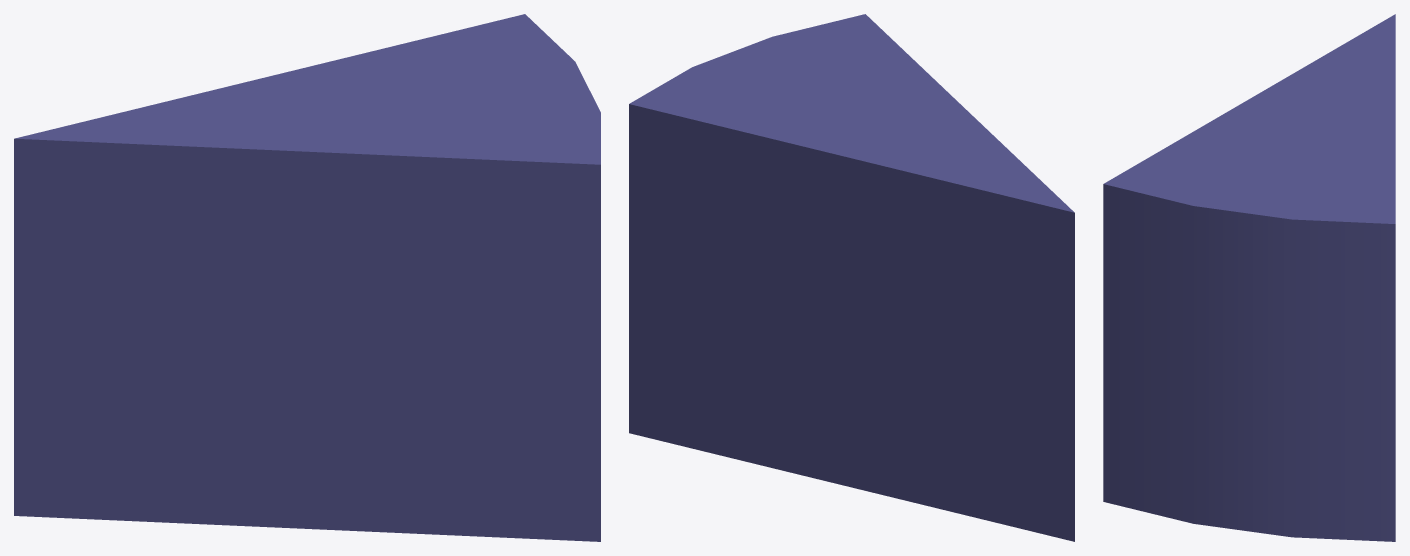
The model's file is HelixJumpTekParça.fbx.
3 views of the same model, side by side, from view 1: azimuth 30°, elevation 25°; view 2: azimuth 150°, elevation 25°; view 3: azimuth 270°, elevation 25° (orthographic). The views are drawn at different scales.
Parts seen in each view (by area): view 1: polySurface2; view 2: polySurface2; view 3: polySurface2.
Boxes of the visible parts, left/top/right/bottom form: polySurface2: left=14, top=14, right=600, bottom=541; polySurface2: left=629, top=14, right=1074, bottom=541; polySurface2: left=1103, top=14, right=1395, bottom=541.
Size of the model in its own units: 267 by 188 by 157.
